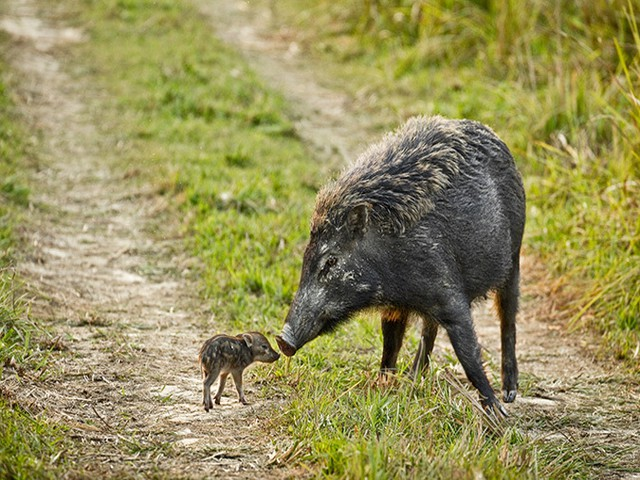Pig: (275, 107, 528, 393), (193, 329, 276, 410)
